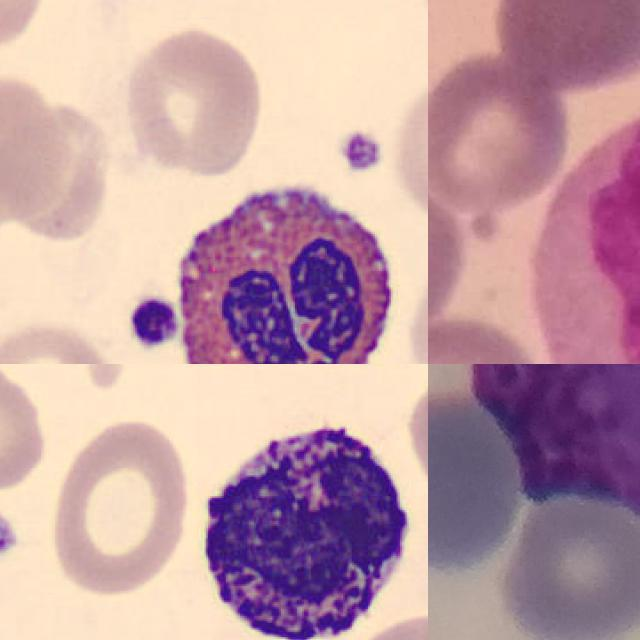Basophil: (183, 402, 421, 640), (469, 364, 640, 520)
Eosinophil: (161, 165, 407, 364)
Monocyte: (537, 103, 640, 364)
Platelets: (125, 292, 180, 352), (334, 127, 389, 178), (0, 503, 23, 563)
RBC: (45, 413, 196, 602), (119, 21, 267, 181), (0, 68, 74, 225), (0, 364, 51, 503), (387, 70, 428, 223), (0, 316, 115, 364), (0, 0, 51, 58)
